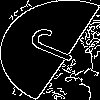J: (25, 25, 94, 69)
